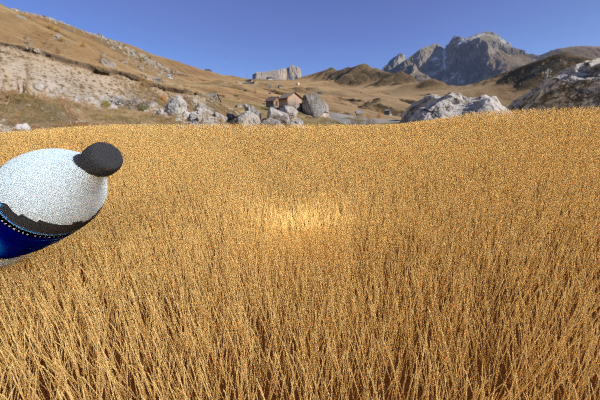Plastic Bottle: (0, 141, 123, 274), (51, 131, 86, 157), (599, 129, 600, 214)
